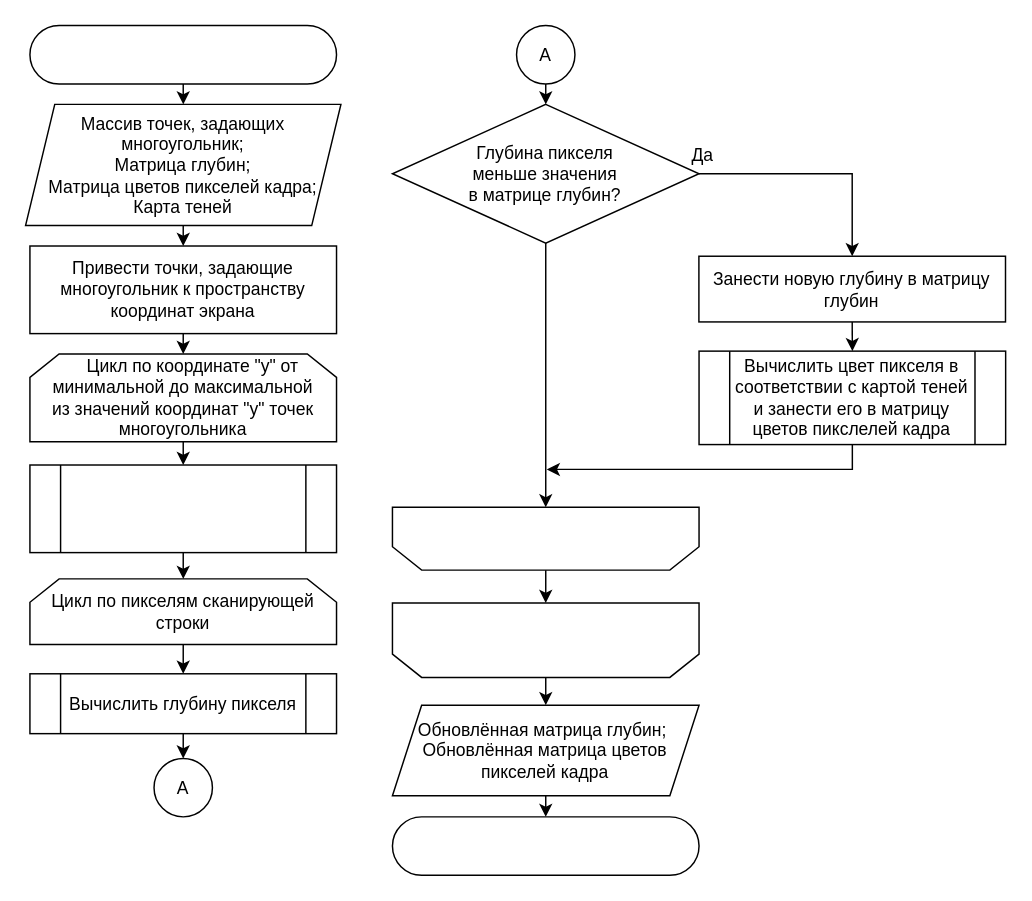
This 1032x901 diagram has some shape labels left out. Here are the shapes that lost their labels. From the top down, the box of each, then its label:
(28, 24, 337, 84): Начало
(28, 464, 337, 553): Вычислить границы сканирующей строки
(391, 506, 699, 570): Конец цикла по пикселям строки
(391, 602, 699, 677): Конец цикла по координате "y"
(391, 815, 699, 875): Конец
